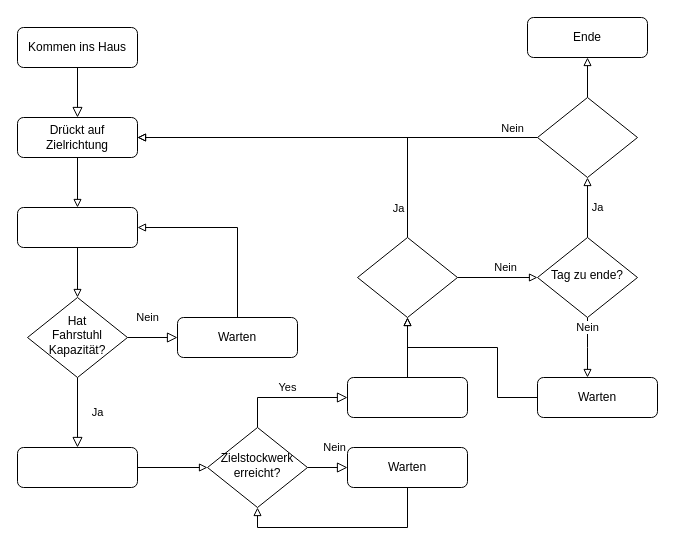
Image size: 675x553. Some labels were removed from this diagram. Here are the shapes that lost their labels. From the top down, the centre of each, then its label:
[587,137]: Beim Ausgang?
[77,227]: Fahrstuhl auf Stockwerk
[407,277]: Mittagspause?
[407,397]: Aussteigen
[77,467]: Einsteigen und Knopf drücken
